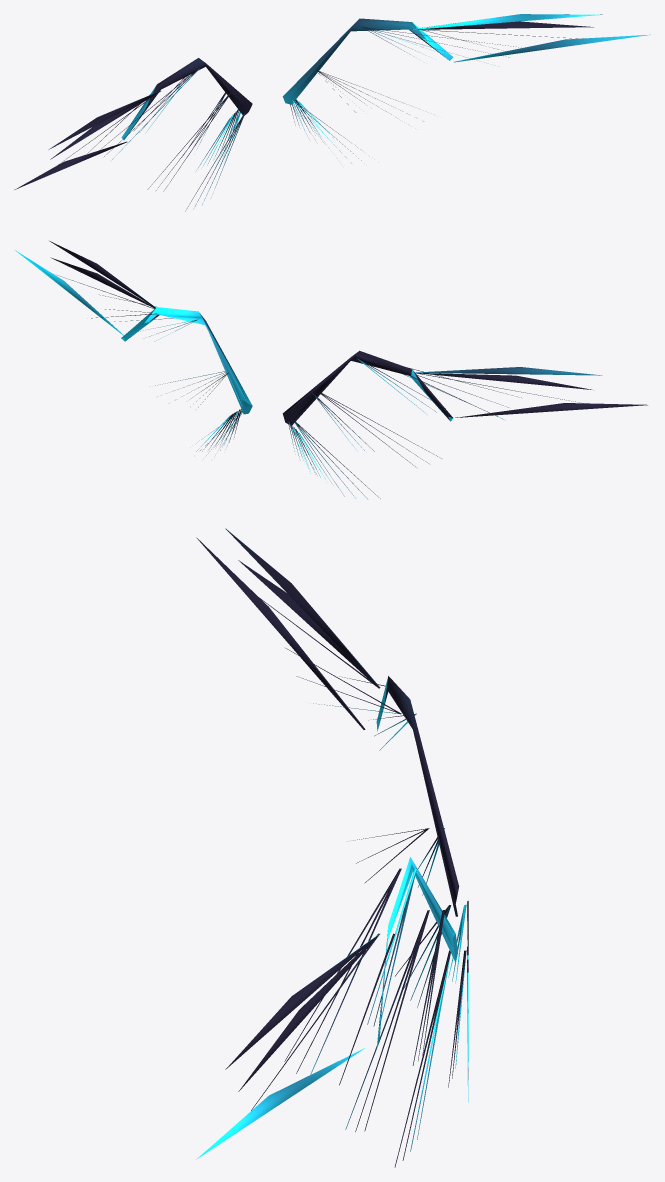
Rendered from aion2_ethereal_wings_LOD2.glb.
3 views of the same model, one above another, from view 1: azimuth 30°, elevation 25°; view 2: azimuth 150°, elevation 25°; view 3: azimuth 270°, elevation 25° (orthographic). The views are drawn at different scales.
Visible parts, largest first — view 1: aion2_ethereal_wings_LOD2; view 2: aion2_ethereal_wings_LOD2; view 3: aion2_ethereal_wings_LOD2.
Part boxes in pixels (x1,y1,x2,y2): aion2_ethereal_wings_LOD2: (14,14,650,211); aion2_ethereal_wings_LOD2: (15,241,647,498); aion2_ethereal_wings_LOD2: (196,528,468,1167).
Size of the model in its own units: 6.83 by 1.53 by 1.27.
Materials: 1 (1 with a texture image).
